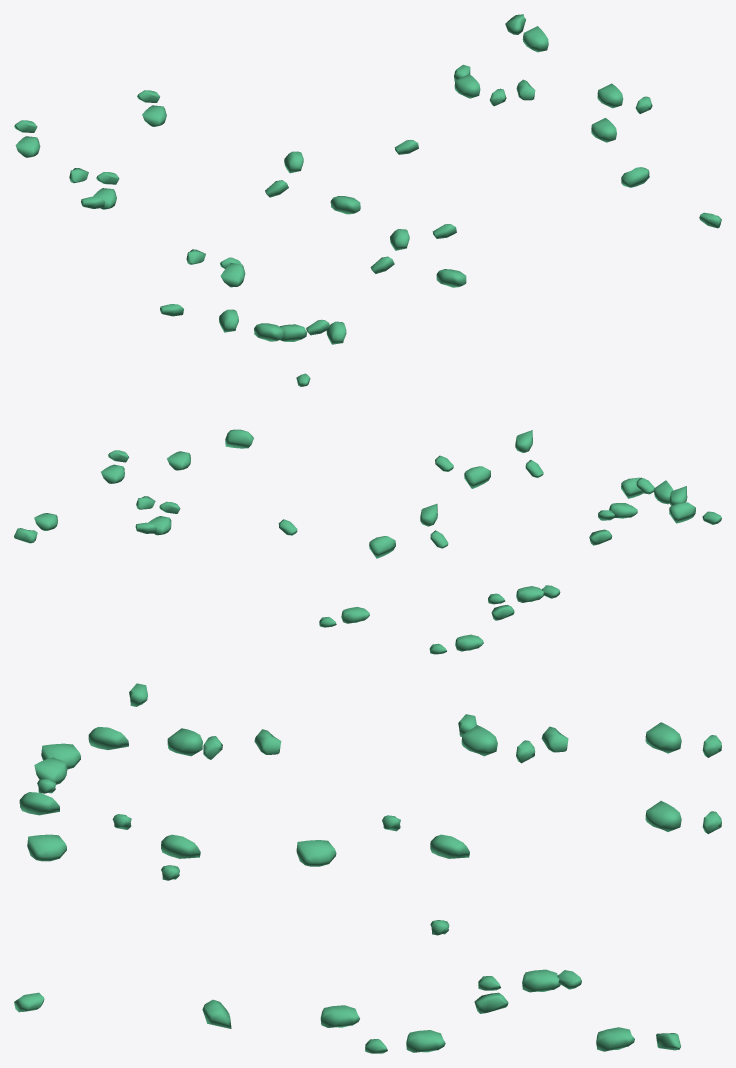
The model's file is Floor_Break_C_04B_Lod0.fbx.
3 views of the same model, one above another, from view 1: azimuth 30°, elevation 25°; view 2: azimuth 150°, elevation 25°; view 3: azimuth 270°, elevation 25° (orthographic). The views are drawn at different scales.
Parts seen in each view (by area): view 1: Floor_Break_C_04B_Lod0; view 2: Floor_Break_C_04B_Lod0; view 3: Floor_Break_C_04B_Lod0.
Boxes of the visible parts, x1,y1,x2,y2 form: Floor_Break_C_04B_Lod0: (14,14,721,344); Floor_Break_C_04B_Lod0: (14,373,721,654); Floor_Break_C_04B_Lod0: (14,683,721,1053).
Size of the model in its own units: 803 by 54.9 by 661.
